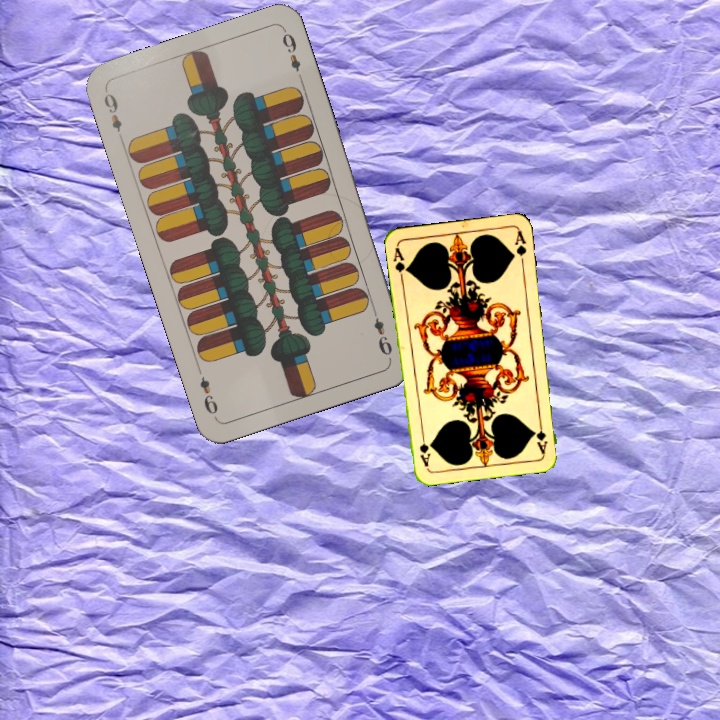E9: (368, 303, 395, 358), (99, 89, 125, 134)
GA: (389, 242, 411, 283), (532, 415, 550, 456)
